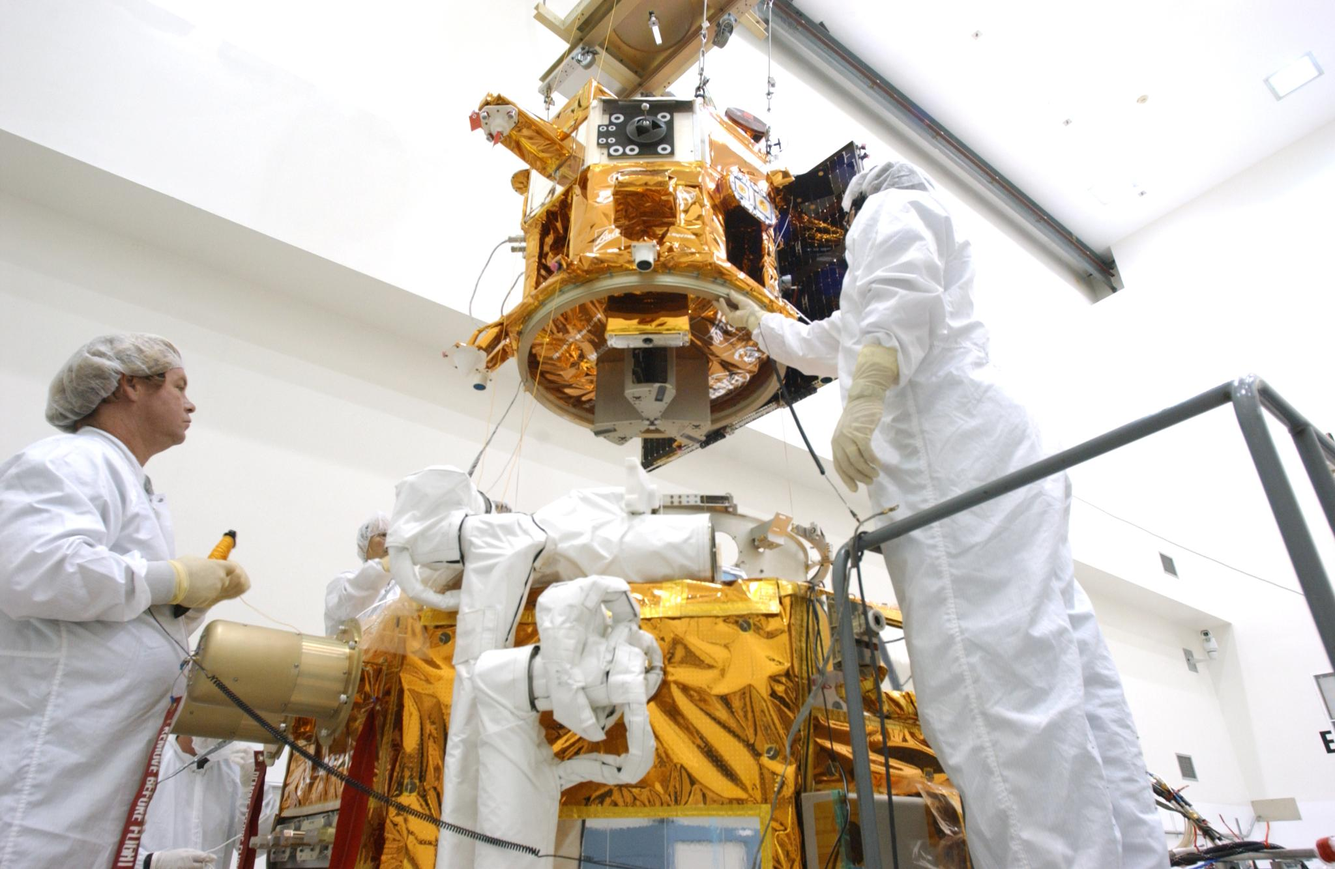antenna: (621, 100, 671, 148)
body: (263, 575, 975, 869), (519, 93, 788, 445)
solar: (639, 139, 861, 475)
